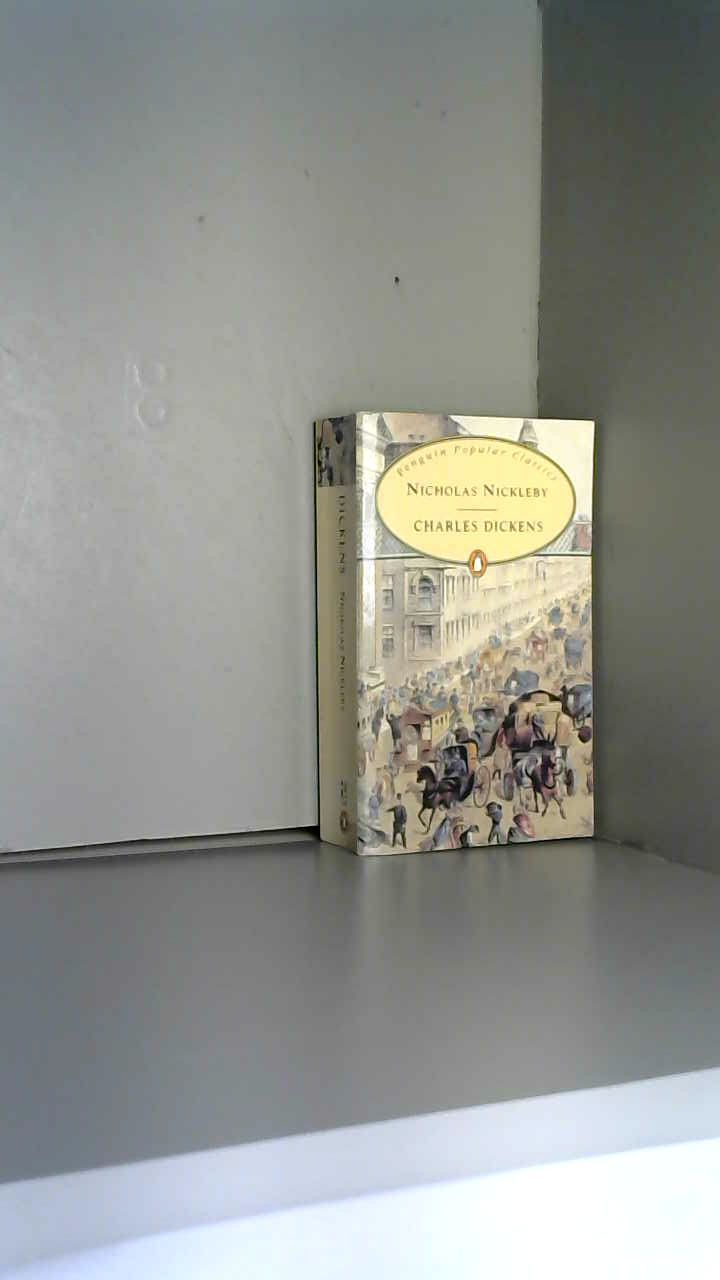book: (265, 361, 646, 905)
